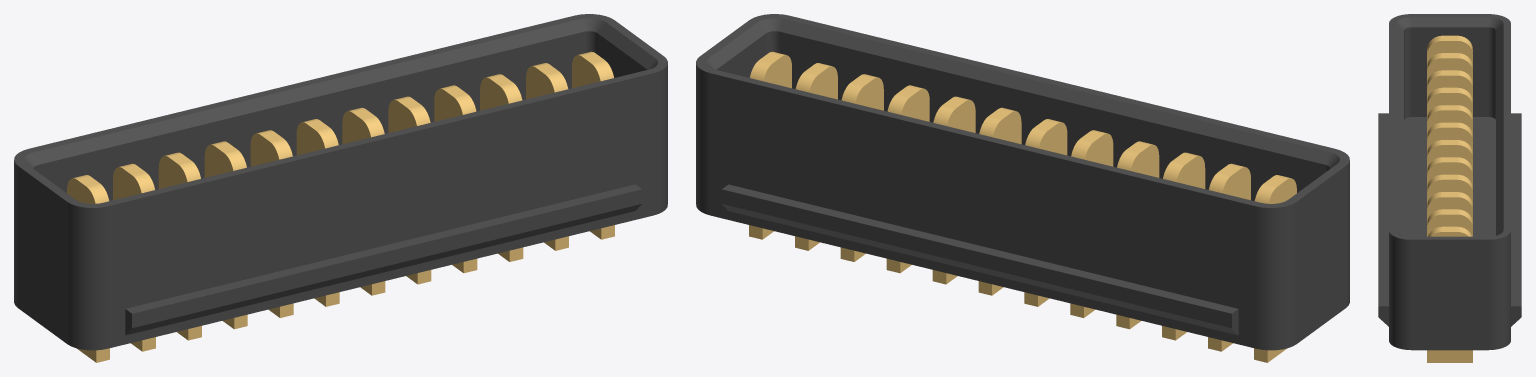
Rendered from ND-D27M-12PIN-R1-R2(MALE).glb.
3 renders of one model, left to right at view 1: azimuth 30°, elevation 25°; view 2: azimuth 150°, elevation 25°; view 3: azimuth 270°, elevation 25°, orthographic. The views are drawn at different scales.
Visible parts, largest first — view 1: ND-D27M-12PIN-R1-R2(MALE); view 2: ND-D27M-12PIN-R1-R2(MALE); view 3: ND-D27M-12PIN-R1-R2(MALE).
Part boxes in pixels (x1,y1,x2,y2): ND-D27M-12PIN-R1-R2(MALE): [14, 14, 667, 362]; ND-D27M-12PIN-R1-R2(MALE): [696, 14, 1349, 362]; ND-D27M-12PIN-R1-R2(MALE): [1378, 14, 1521, 362].
Bounding box in the file's own units: 0.0351 × 0.01 × 0.0094.
